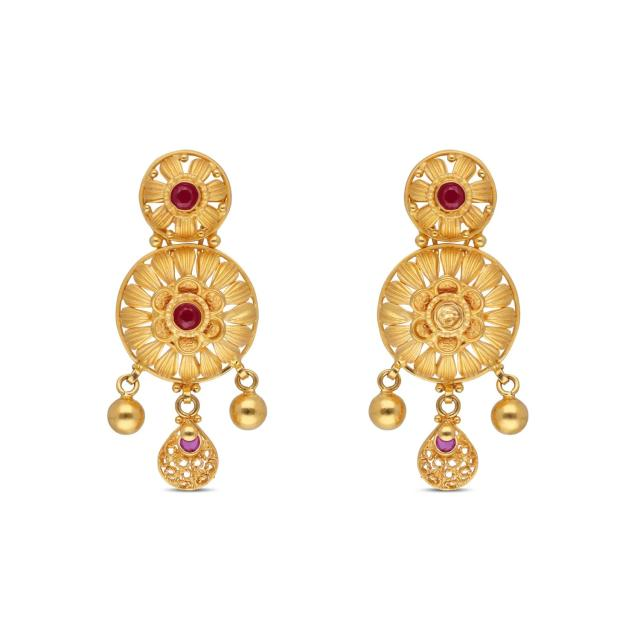missing gem: (435, 303, 462, 330)
